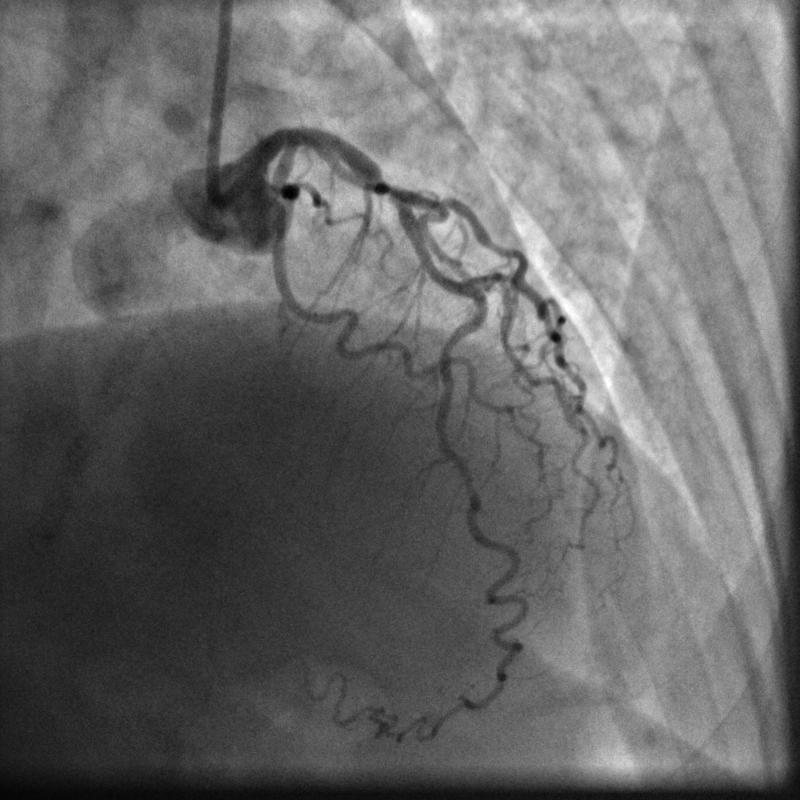Stenosis: (379, 171, 395, 196)
